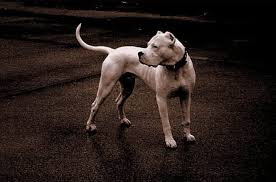dog: (62, 18, 223, 152)
